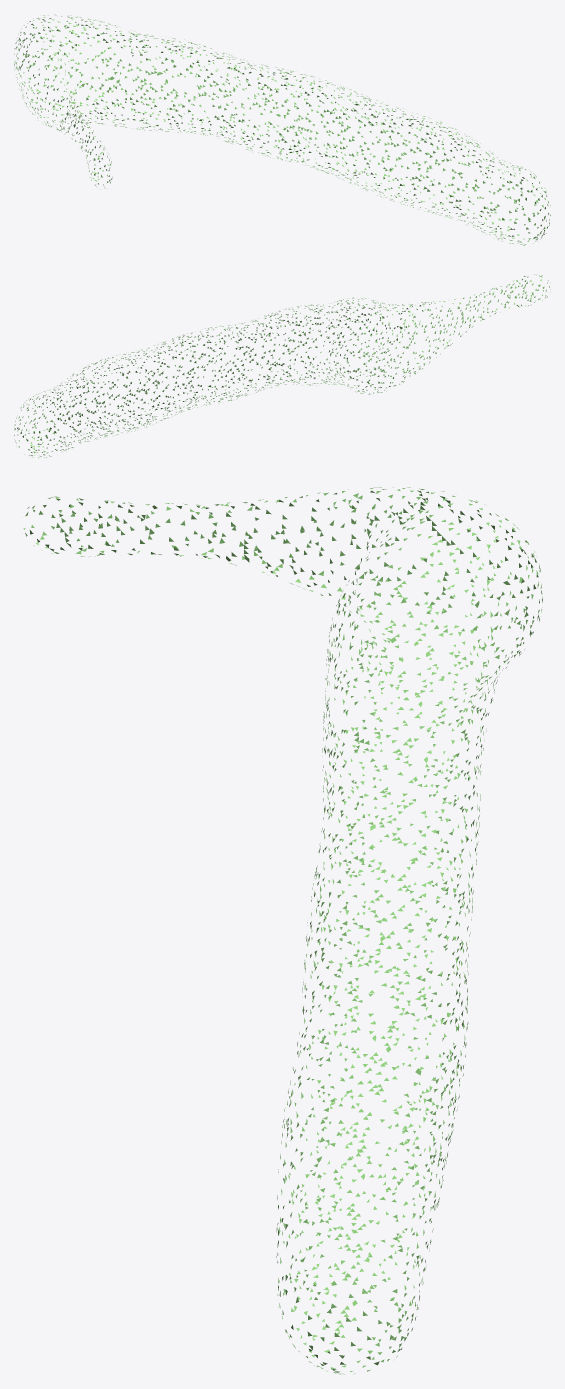
The model's file is morph_015.glb.
The picture shows the model from 3 angles, top to bottom: view 1: azimuth 30°, elevation 25°; view 2: azimuth 150°, elevation 25°; view 3: azimuth 270°, elevation 25°; orthographic projection. The views are drawn at different scales.
Size of the model in its own units: 136 by 73.87 by 68.24.
